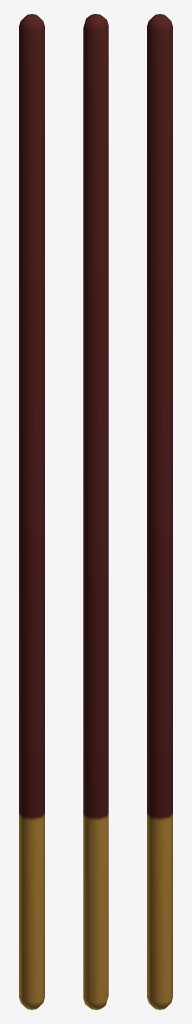
Rendered from Pokk.fbx.
3 views of the same model, side by side, from view 1: azimuth 90°, elevation 25°; view 2: azimuth 150°, elevation 25°; view 3: azimuth 270°, elevation 25° (orthographic).
Visible parts, largest first — view 1: pokk; view 2: pokk; view 3: pokk.
Boxes of the visible parts, <box> form: pokk: <box>19,14,44,1009</box>; pokk: <box>83,14,108,1009</box>; pokk: <box>147,14,172,1009</box>.
Bounding box in the file's own units: 0.0024 × 0.1 × 0.0024.
